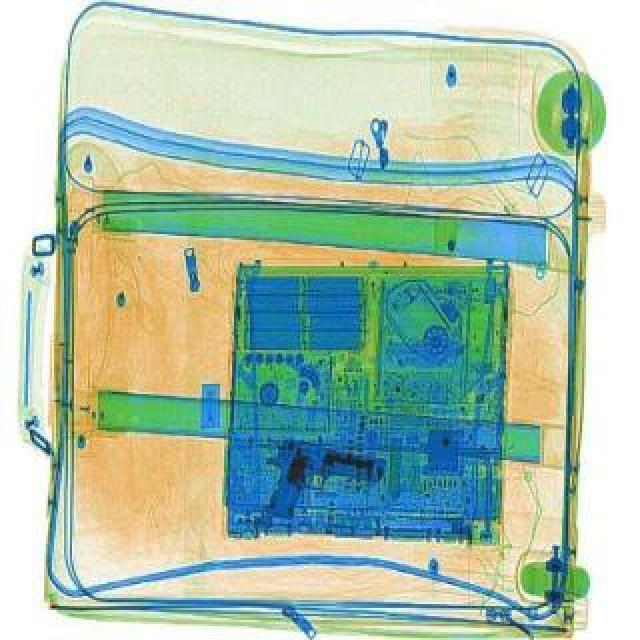gun: (254, 428, 390, 540)
